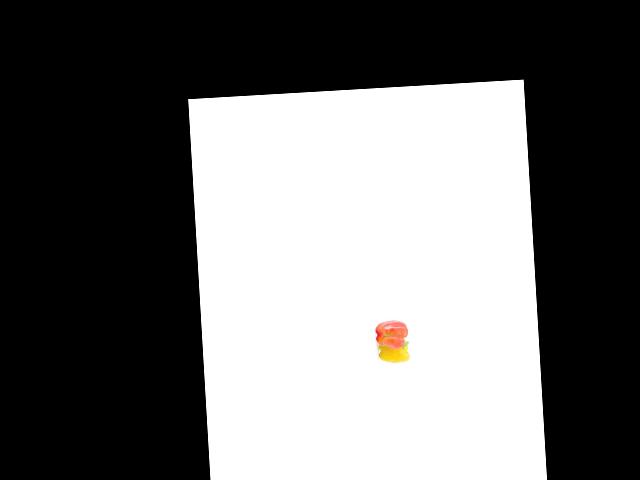bell_pepper: (376, 337, 408, 364)
